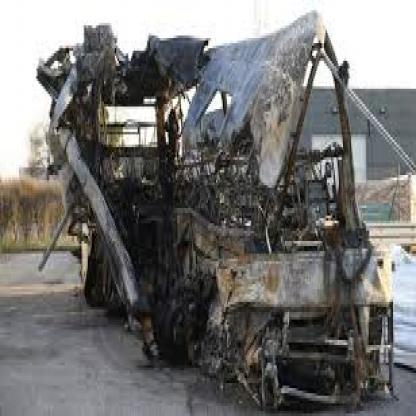accident: (34, 24, 398, 407)
